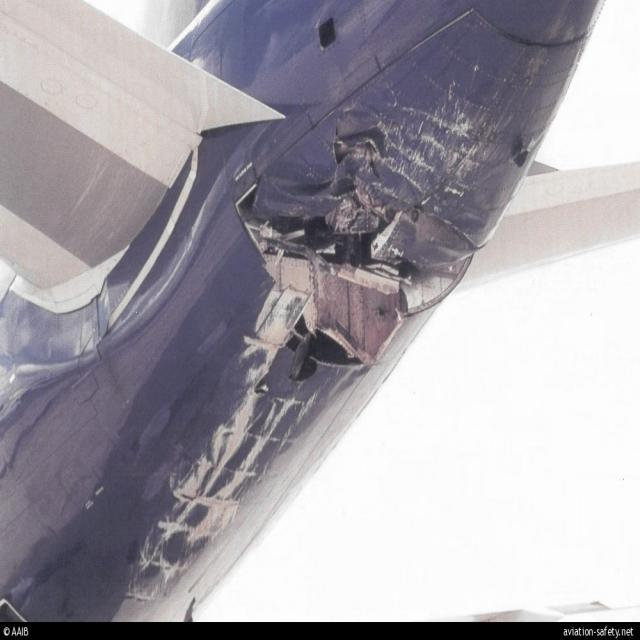crack: (234, 184, 424, 383)
